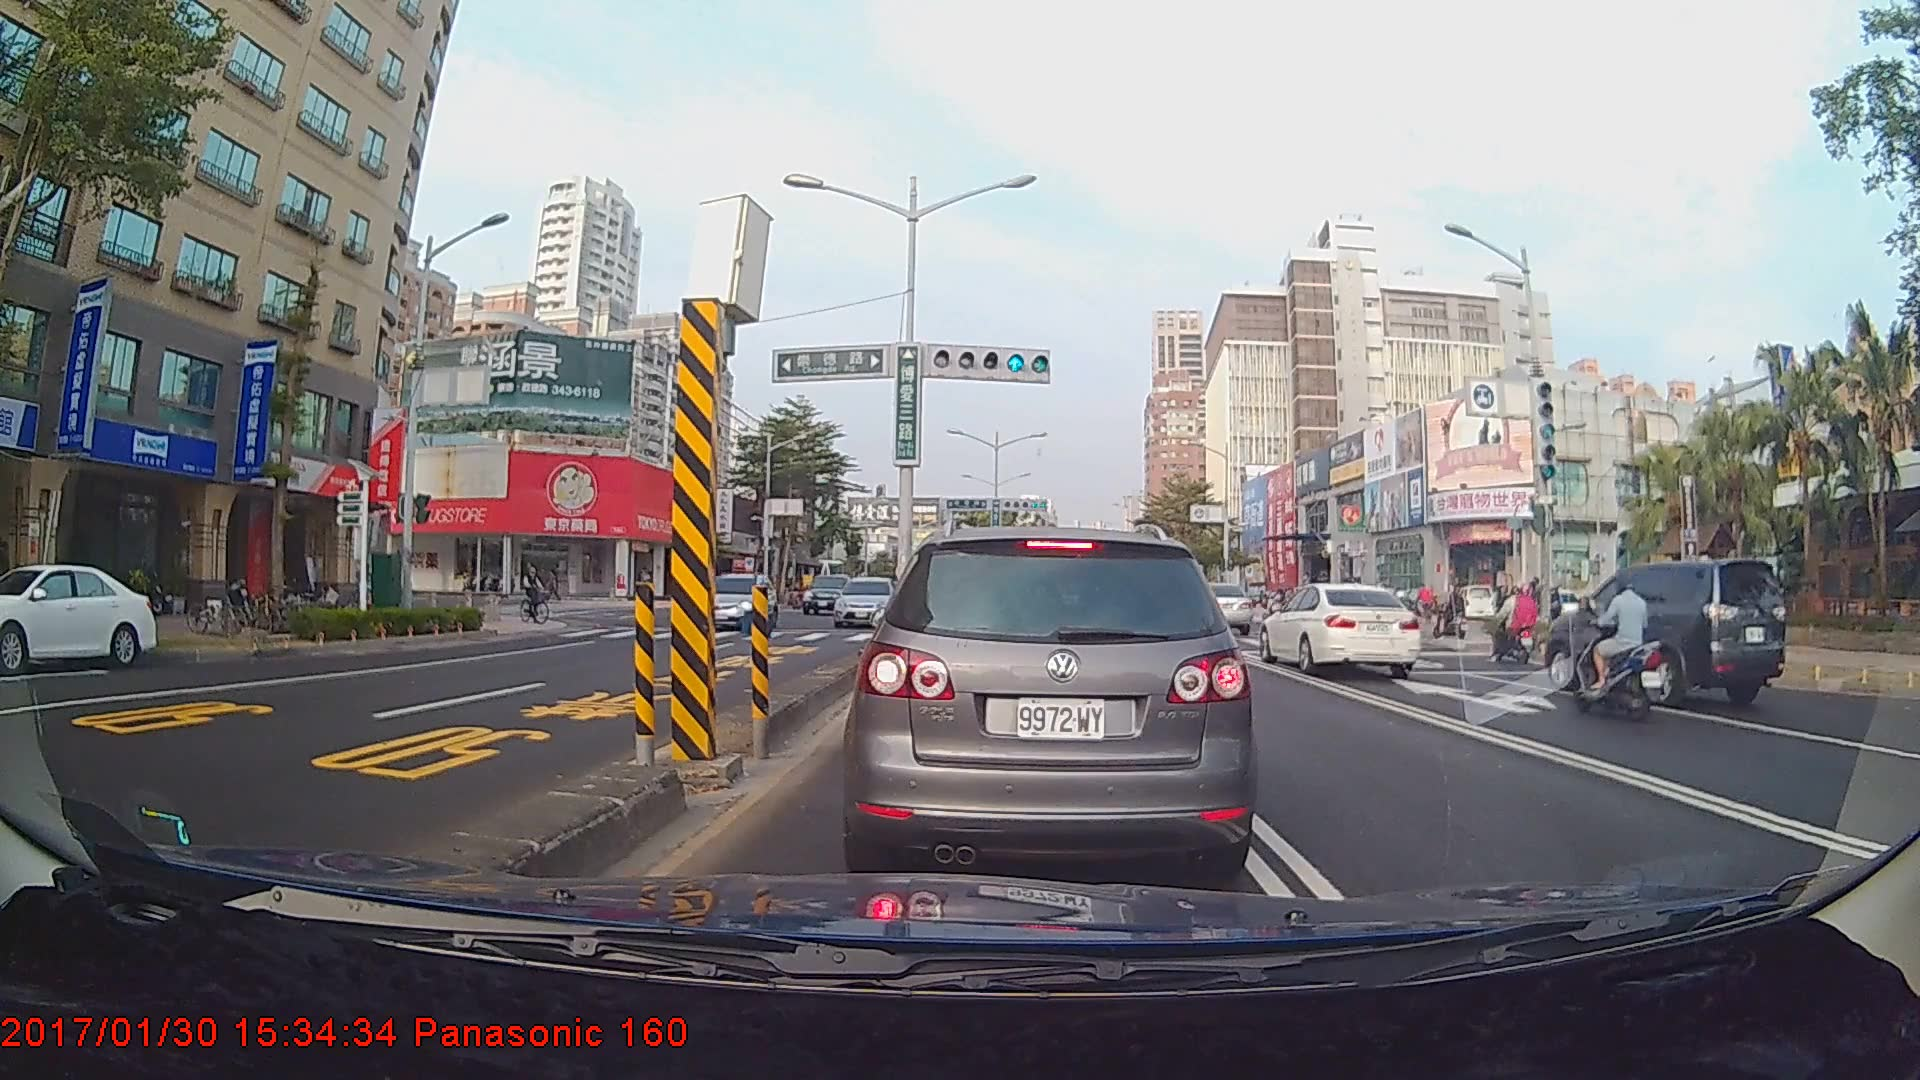rider: (1561, 570, 1672, 732), (1485, 582, 1548, 668), (518, 559, 561, 629), (1436, 582, 1473, 646)
vehicle: (855, 520, 1250, 883), (1542, 558, 1788, 710), (0, 561, 157, 671), (1257, 580, 1420, 672), (700, 570, 777, 631), (831, 573, 904, 628), (1180, 580, 1254, 633), (801, 573, 849, 616)
